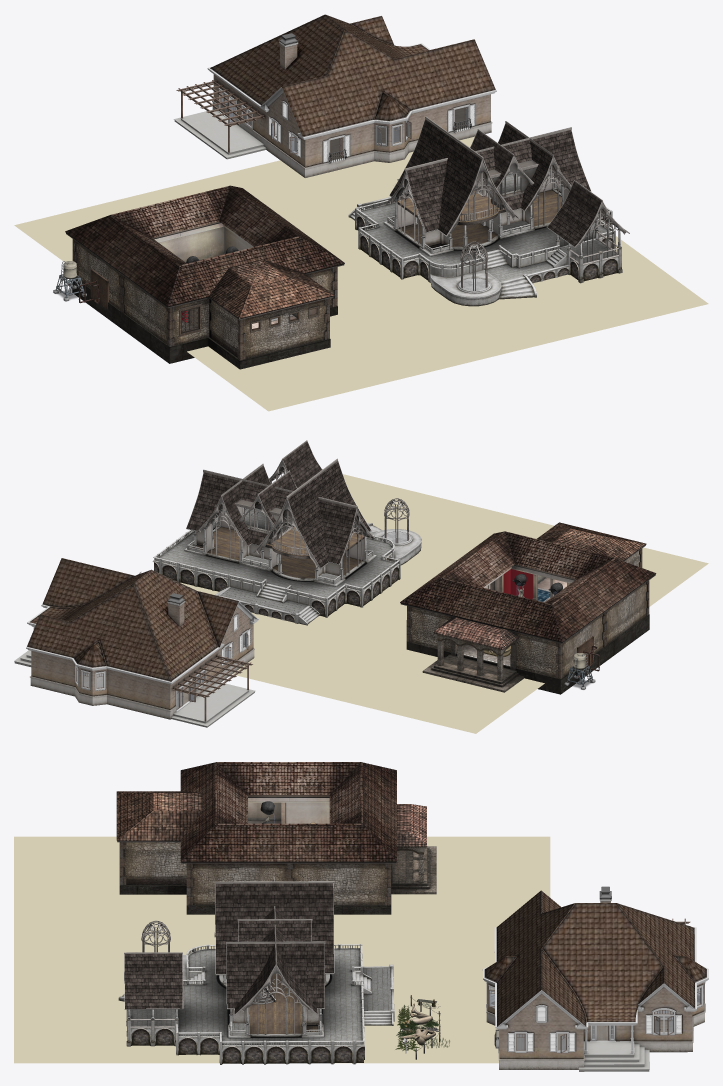
3 views of the same model, one above another, from view 1: azimuth 30°, elevation 25°; view 2: azimuth 150°, elevation 25°; view 3: azimuth 270°, elevation 25° (orthographic). The views are drawn at different scales.
Visible parts, largest first — view 1: Terrain 4,0, ROOST - Bella Vista House (×6), prim0-mesh#9, Compulsion Elven House Main (×3), Compulsion Elven House Base (×6), prim0-mesh#8, prim0-mesh#14, prim0-mesh#13, prim0-mesh#12; view 2: Terrain 4,0, ROOST - Bella Vista House (×6), prim0-mesh#9, Compulsion Elven House Main (×3), Compulsion Elven House Base (×4), prim0-mesh#13, prim0-mesh#10, prim0-mesh#14, prim0-mesh#12, prim0-mesh#11; view 3: Terrain 4,0, ROOST - Bella Vista House (×5), prim0-mesh#9, Compulsion Elven House Main (×4), Compulsion Elven House Base (×4), prim0-mesh#13, prim0-mesh#10, prim0-mesh#8, Bella Vista House, prim0-mesh#14, prim0-mesh#12, prim0-mesh#15 (+1 smaller).
Boxes of the visible parts, x1,y1,x2,y2 form: Terrain 4,0: [14, 136, 708, 411]; ROOST - Bella Vista House (×6): [174, 14, 496, 177]; prim0-mesh#9: [65, 185, 344, 320]; Compulsion Elven House Main (×3): [383, 119, 590, 256]; Compulsion Elven House Base (×6): [358, 173, 629, 306]; prim0-mesh#8: [172, 268, 333, 358]; prim0-mesh#14: [72, 279, 337, 369]; prim0-mesh#13: [75, 242, 167, 343]; prim0-mesh#12: [159, 226, 251, 322]; Terrain 4,0: [180, 469, 708, 733]; ROOST - Bella Vista House (×6): [26, 558, 258, 727]; prim0-mesh#9: [400, 522, 656, 643]; Compulsion Elven House Main (×3): [184, 461, 376, 586]; Compulsion Elven House Base (×4): [156, 440, 421, 613]; prim0-mesh#13: [410, 583, 646, 677]; prim0-mesh#10: [422, 616, 524, 692]; prim0-mesh#14: [406, 577, 649, 694]; prim0-mesh#12: [485, 569, 570, 599]; prim0-mesh#11: [556, 580, 649, 679]; Terrain 4,0: [14, 836, 550, 1063]; ROOST - Bella Vista House (×5): [482, 890, 708, 1069]; prim0-mesh#9: [116, 762, 396, 863]; Compulsion Elven House Main (×4): [215, 880, 333, 1037]; Compulsion Elven House Base (×4): [124, 948, 391, 1044]; prim0-mesh#13: [190, 802, 387, 904]; prim0-mesh#10: [391, 804, 436, 894]; prim0-mesh#8: [123, 842, 186, 884]; Bella Vista House: [578, 1041, 649, 1071]; prim0-mesh#14: [119, 821, 391, 914]; prim0-mesh#12: [285, 802, 329, 823]; prim0-mesh#15: [186, 863, 390, 905].
Size of what is drawn, in the model's own units: 72.42 by 16.21 by 82.91.
Materials: 253 (251 with a texture image).
